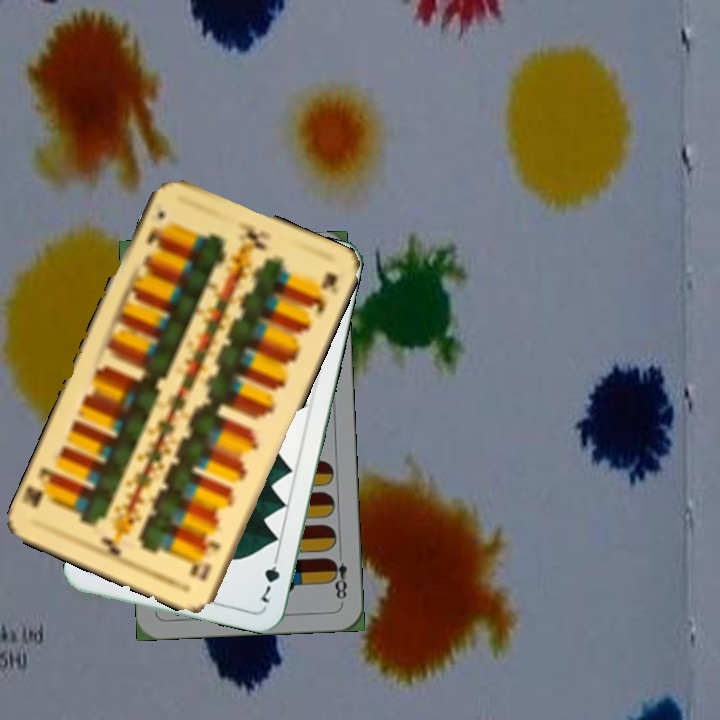E10: (190, 537, 223, 584), (141, 206, 168, 249)
E8: (326, 546, 350, 605)
G7: (256, 549, 283, 606)
